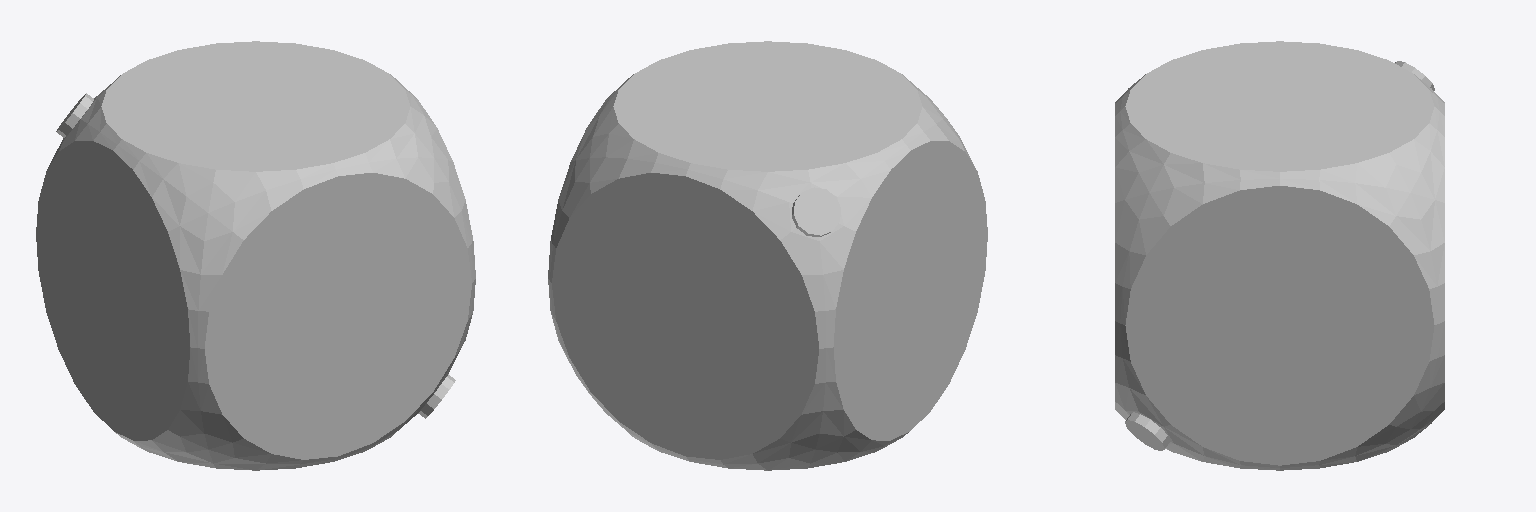
The model's file is fgb node.obj.
3 views of the same model, side by side, from view 1: azimuth 30°, elevation 25°; view 2: azimuth 150°, elevation 25°; view 3: azimuth 270°, elevation 25° (orthographic).
Parts seen in each view (by area): view 1: 1; view 2: 1; view 3: 1.
Boxes of the visible parts, x1,y1,x2,y2 form: 1: [36, 41, 475, 470]; 1: [548, 41, 987, 470]; 1: [1115, 41, 1444, 470].
Bounding box in the file's own units: 1 × 1 × 1.